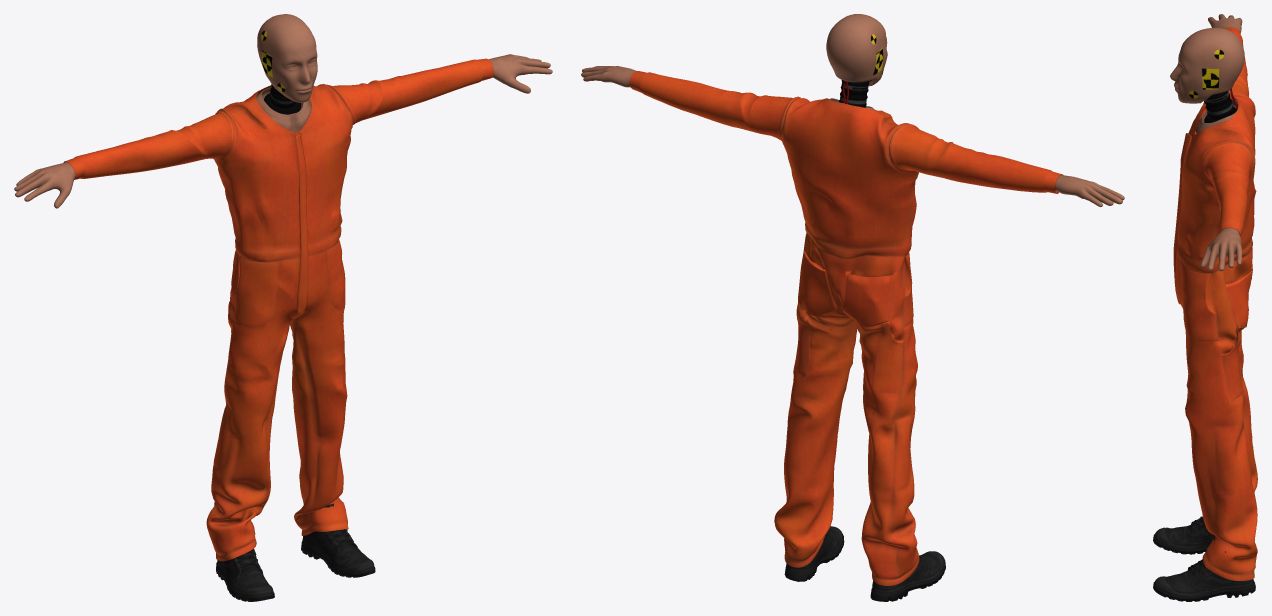
File: dummy.glb
3 views of the same model, side by side, from view 1: azimuth 30°, elevation 25°; view 2: azimuth 150°, elevation 25°; view 3: azimuth 270°, elevation 25° (orthographic). The views are drawn at different scales.
Visible parts, largest first — view 1: Ch32; view 2: Ch32; view 3: Ch32.
Part boxes in pixels (bbox=[...]): Ch32: bbox=[14, 14, 552, 601]; Ch32: bbox=[581, 14, 1124, 601]; Ch32: bbox=[1153, 14, 1257, 601].
Size of the model in its own units: 1.78 by 1.76 by 0.3103.
1 material, 1 textured.
